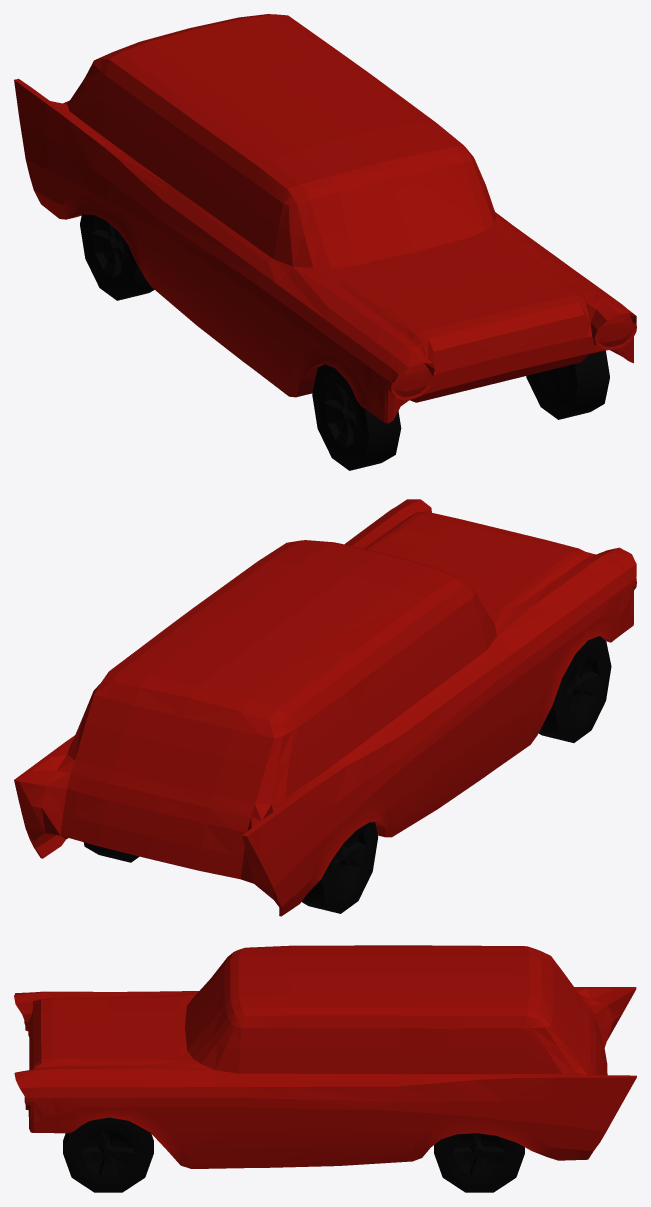
The model's file is wagon5.DAE.
3 renders of one model, top to bottom at view 1: azimuth 30°, elevation 25°; view 2: azimuth 150°, elevation 25°; view 3: azimuth 270°, elevation 25°, orthographic. The views are drawn at different scales.
Parts seen in each view (by area): view 1: Chassis, FRWheel, FLWheel, RRWheel; view 2: Chassis, FRWheel, RRWheel; view 3: Chassis, FLWheel, RLWheel.
Part boxes in pixels (left/top/right/bottom): Chassis: left=14, top=14, right=636, bottom=423; FRWheel: left=312, top=364, right=401, bottom=470; FLWheel: left=526, top=350, right=609, bottom=419; RRWheel: left=80, top=214, right=154, bottom=300; Chassis: left=14, top=499, right=636, bottom=916; FRWheel: left=538, top=636, right=611, bottom=742; RRWheel: left=302, top=822, right=378, bottom=913; Chassis: left=14, top=945, right=636, bottom=1168; FLWheel: left=63, top=1117, right=153, bottom=1192; RLWheel: left=434, top=1133, right=524, bottom=1192.
Bounding box in the file's own units: 110 × 293 × 89.11.
